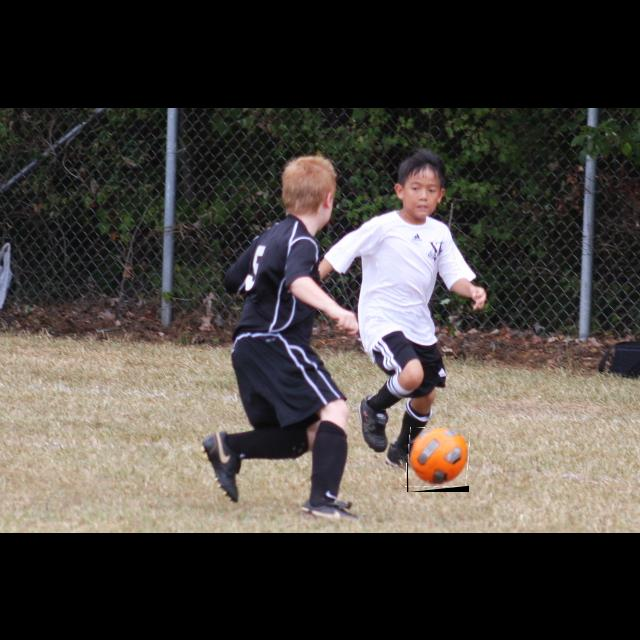Football: (407, 428, 469, 492)
